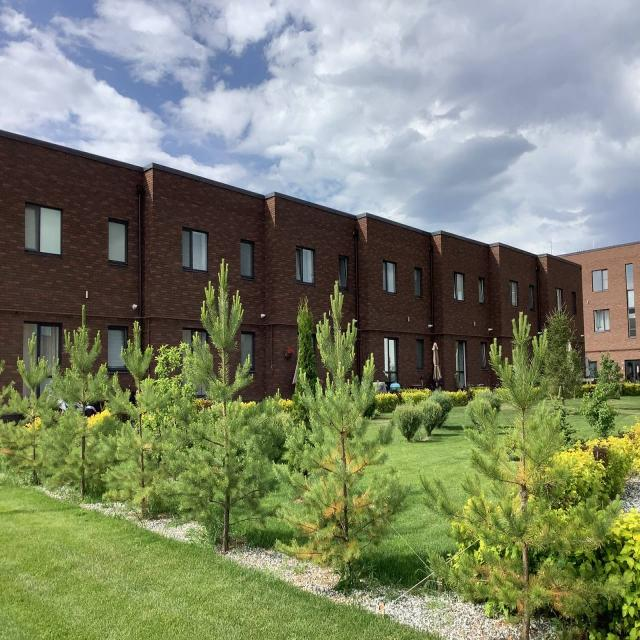Building: (0, 128, 585, 398)
